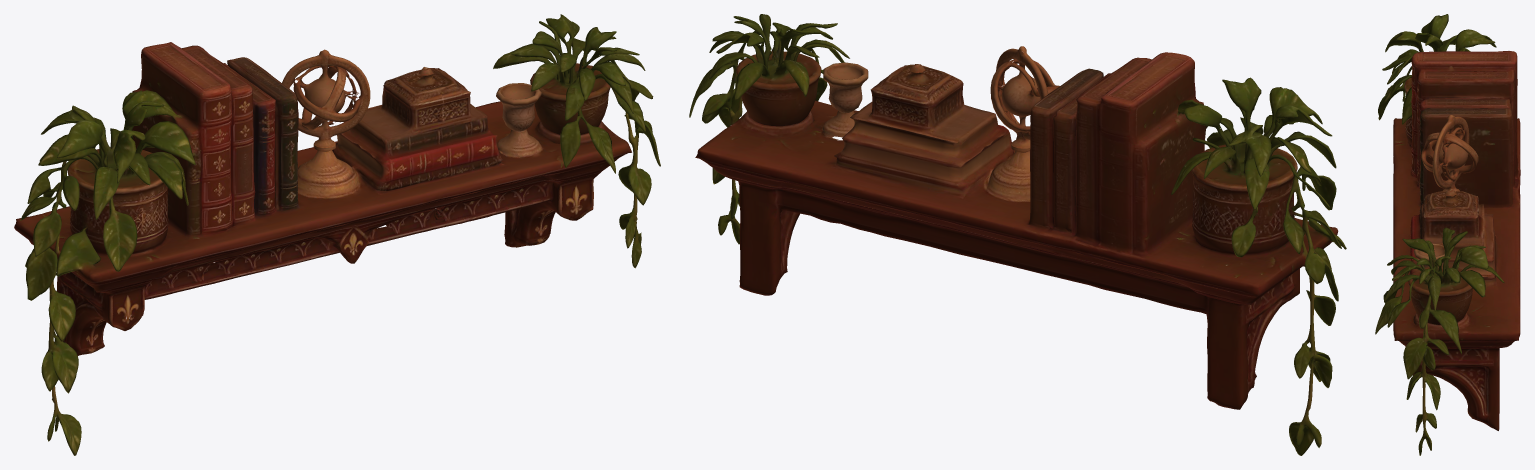
The model's file is ornate-shelf.glb.
3 views of the same model, side by side, from view 1: azimuth 30°, elevation 25°; view 2: azimuth 150°, elevation 25°; view 3: azimuth 270°, elevation 25° (orthographic). The views are drawn at different scales.
Visible parts, largest first — view 1: tripo_node_21d631cc; view 2: tripo_node_21d631cc; view 3: tripo_node_21d631cc.
Boxes of the visible parts, x1,y1,x2,y2 form: tripo_node_21d631cc: (14, 14, 660, 455); tripo_node_21d631cc: (689, 14, 1346, 455); tripo_node_21d631cc: (1375, 14, 1520, 455).
Size of the model in its own units: 97.44 by 51.9 by 24.28.
Materials: 1 (1 with a texture image).
